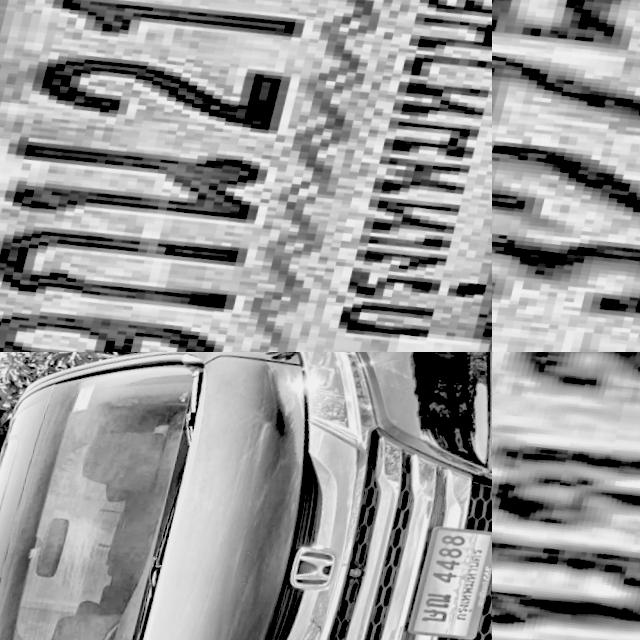license-plate: (0, 0, 492, 352), (492, 0, 640, 352), (492, 352, 640, 640), (410, 523, 492, 640)
